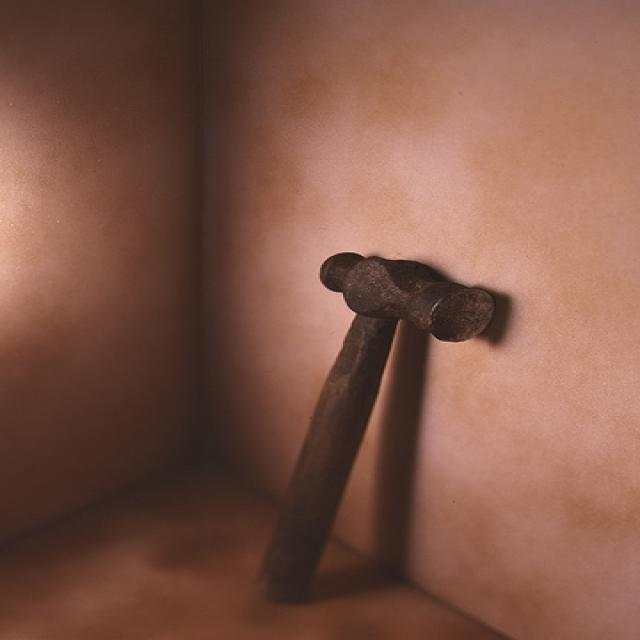hammer: (253, 246, 502, 606)
